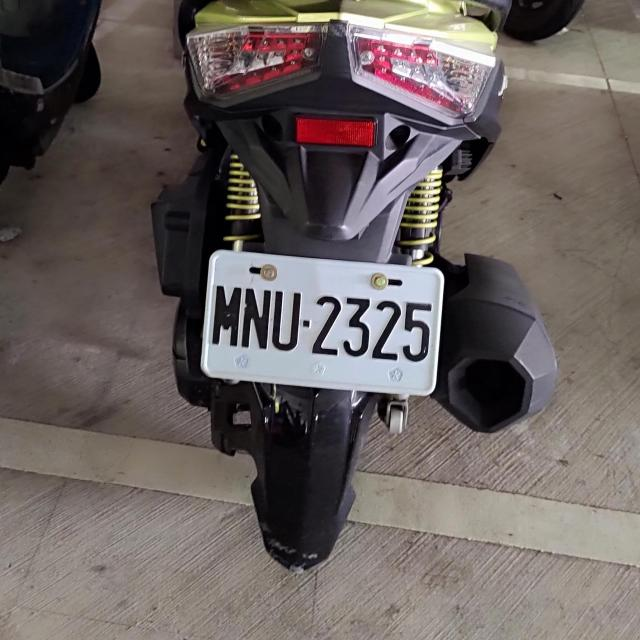W: (197, 248, 446, 395)
